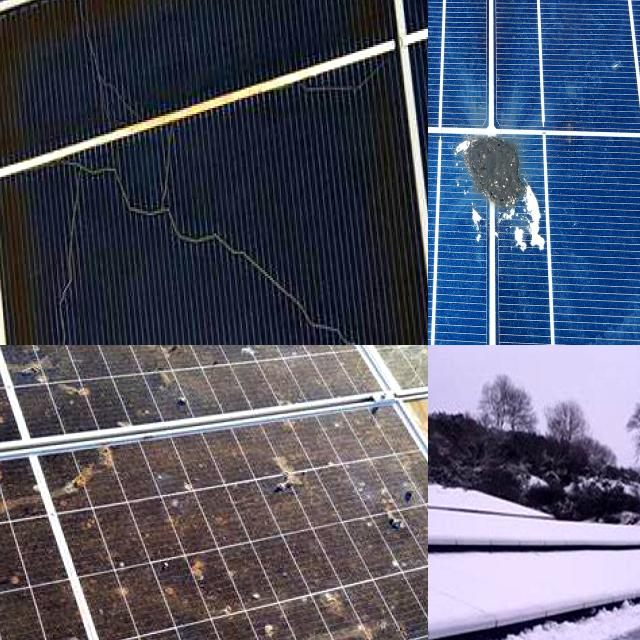bird: (430, 124, 562, 283), (126, 345, 280, 417), (0, 473, 64, 632), (222, 557, 310, 640), (102, 525, 185, 607), (0, 345, 98, 406), (320, 583, 418, 640), (258, 455, 326, 523), (377, 476, 428, 559), (0, 378, 37, 449), (120, 616, 216, 640)
panel: (484, 531, 626, 609), (428, 543, 495, 640), (476, 602, 640, 640), (428, 543, 477, 640), (428, 465, 491, 535), (428, 480, 485, 544)
shadow: (330, 0, 428, 345), (0, 0, 57, 345), (74, 0, 274, 20)
